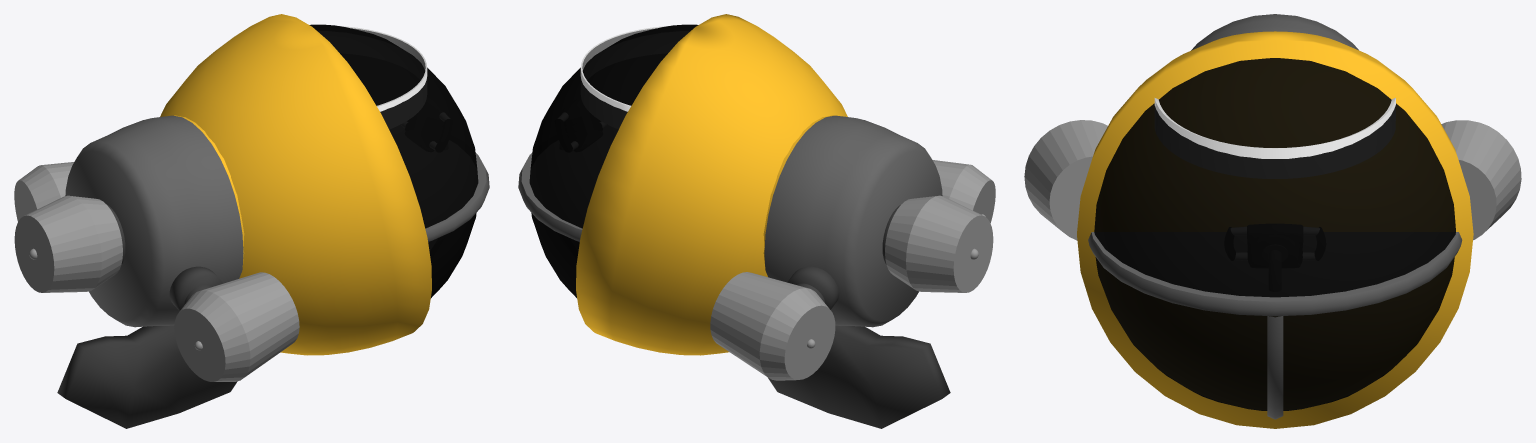
Rendered from SubmarinePanoramicScreenUI.glb.
The picture shows the model from 3 angles, left to right: view 1: azimuth 30°, elevation 25°; view 2: azimuth 150°, elevation 25°; view 3: azimuth 270°, elevation 25°; orthographic projection. The views are drawn at different scales.
Visible parts, largest first — view 1: Cylinder.002, Cylinder; view 2: Cylinder.002, Cylinder; view 3: Cylinder.002, Cylinder.
Boxes of the visible parts, x1,y1,x2,y2 form: Cylinder.002: [14, 14, 489, 428]; Cylinder: [340, 26, 427, 111]; Cylinder.002: [518, 14, 995, 428]; Cylinder: [580, 26, 667, 111]; Cylinder.002: [1024, 14, 1521, 428]; Cylinder: [1154, 98, 1395, 158].
Bounding box in the file's own units: 3.15 × 2.42 × 2.69.
